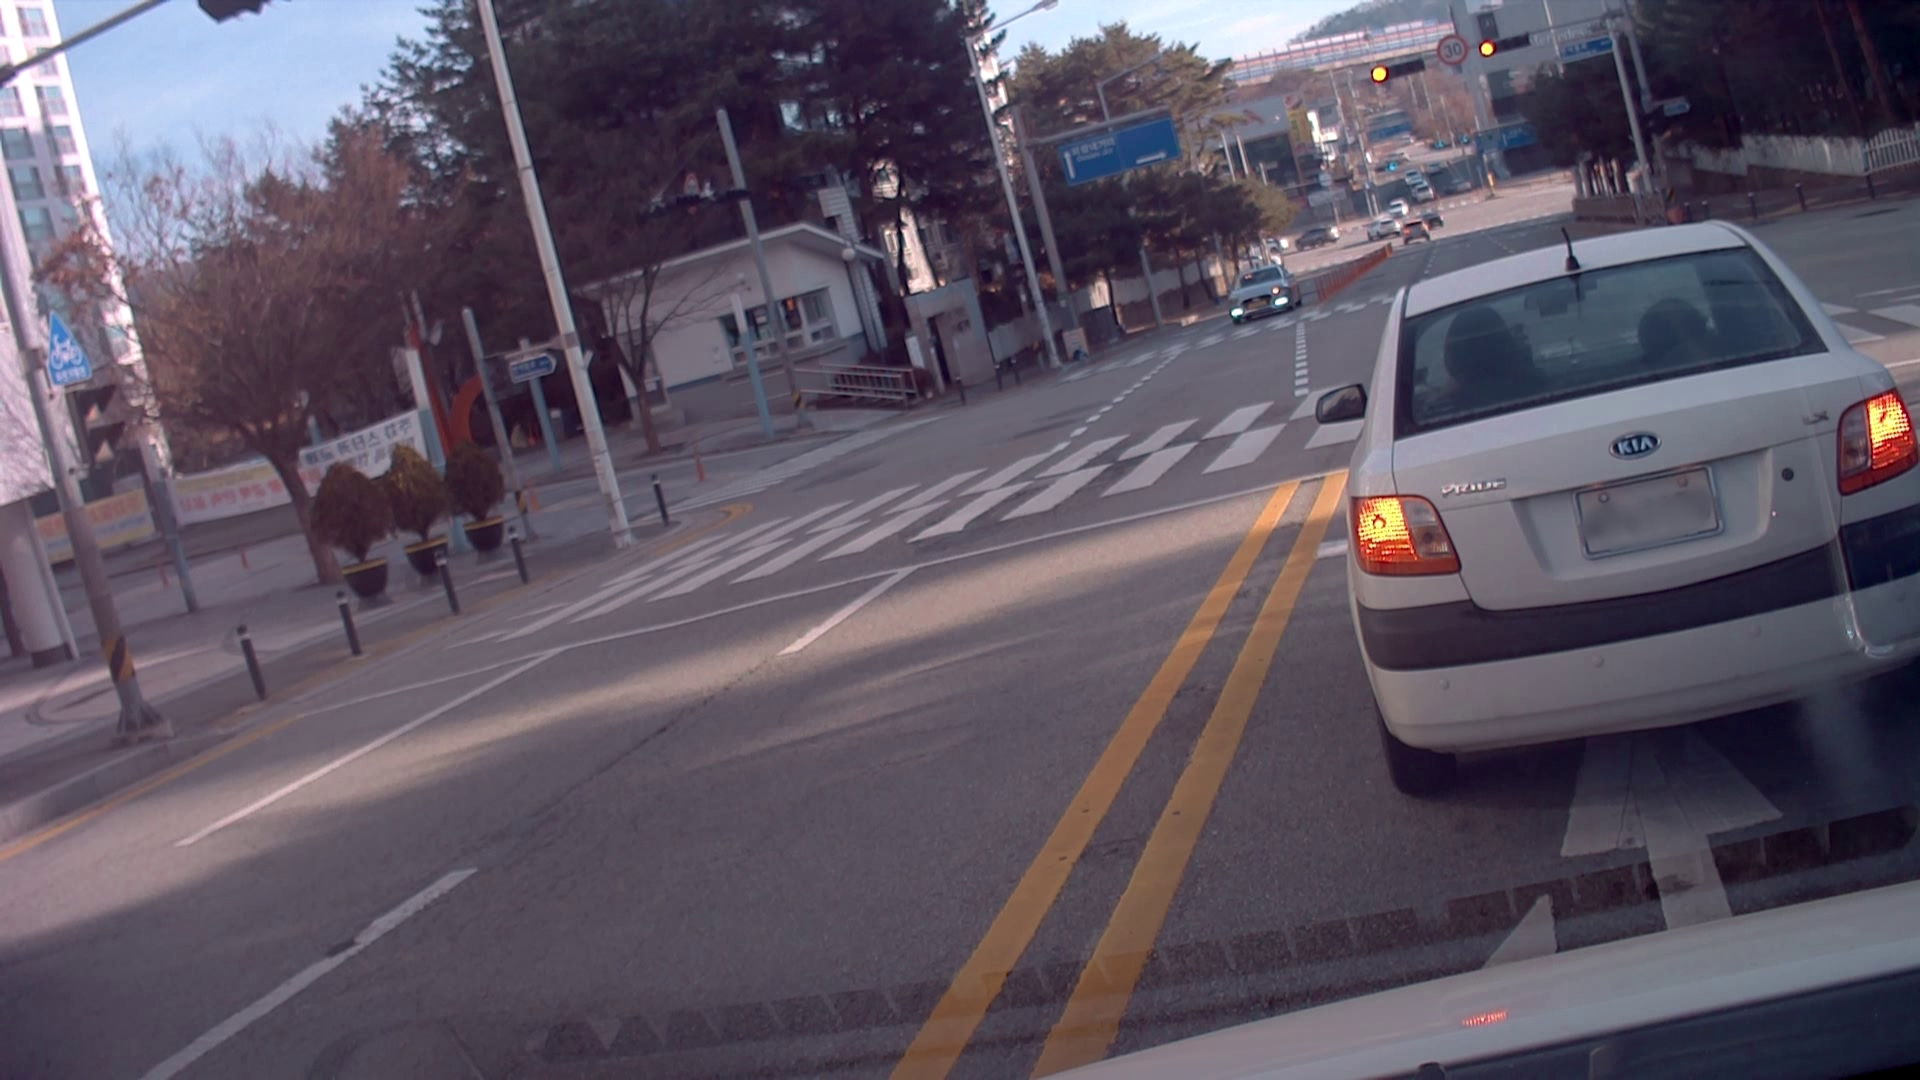trafficLight: (1370, 58, 1427, 84), (1481, 32, 1531, 55)
trafficSignCircle: (1433, 33, 1469, 66)
